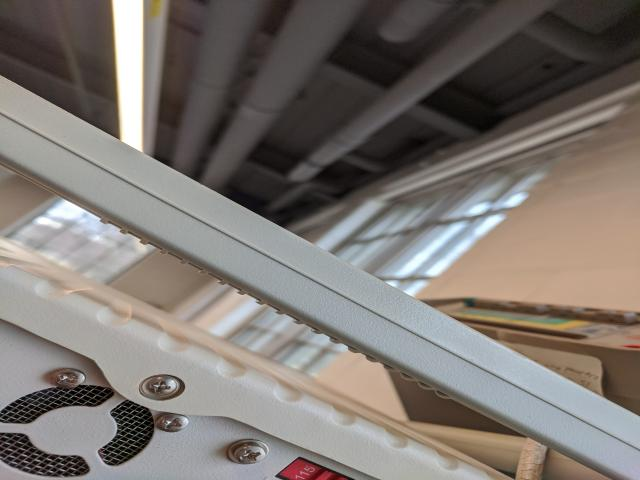CRS: (140, 374, 183, 399), (230, 444, 268, 466), (155, 412, 188, 432), (50, 368, 84, 387)
